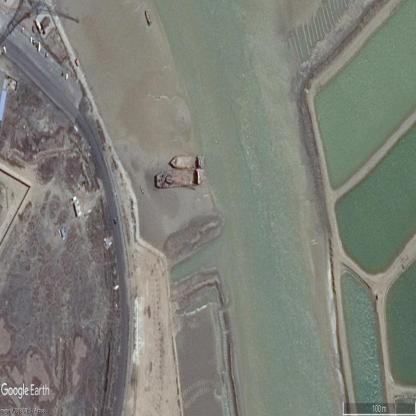ship: (154, 170, 202, 186), (169, 153, 207, 170), (143, 6, 154, 29)
